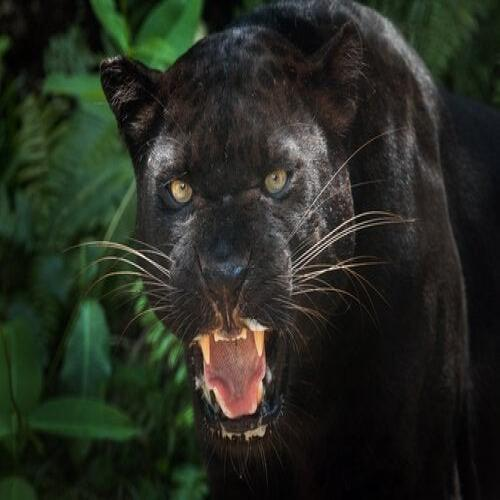panther-endangered: (101, 0, 468, 500)
